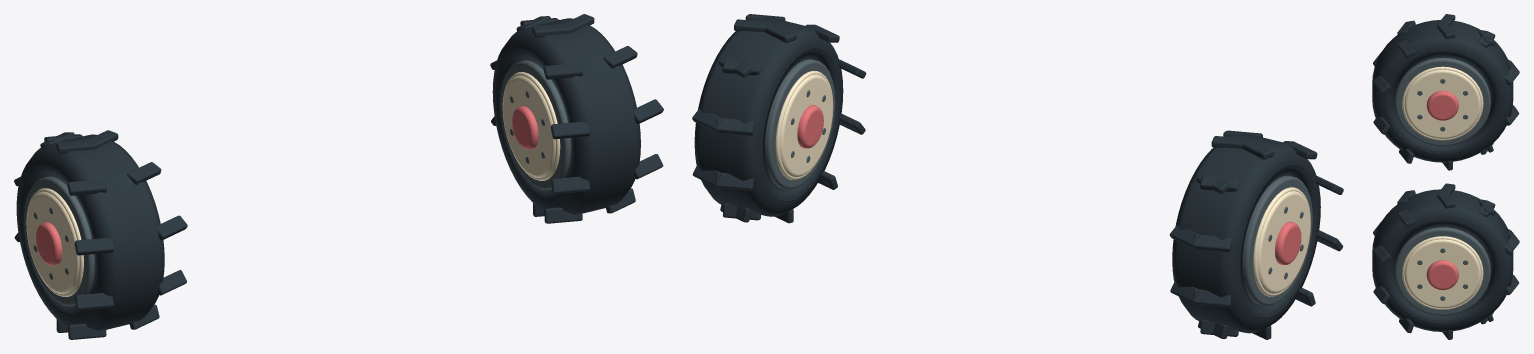
The model's file is broto_wheels_small.glb.
The picture shows the model from 3 angles, left to right: view 1: azimuth 30°, elevation 25°; view 2: azimuth 150°, elevation 25°; view 3: azimuth 270°, elevation 25°; orthographic projection. The views are drawn at different scales.
Visible parts, largest first — view 1: WheelL, WheelR; view 2: WheelL, WheelR; view 3: WheelL, WheelR.
Boxes of the visible parts, x1,y1,x2,y2 form: WheelL: (14, 130, 187, 339); WheelR: (490, 14, 663, 223); WheelL: (1169, 130, 1343, 339); WheelR: (692, 14, 866, 223); WheelL: (1372, 14, 1519, 170); WheelR: (1372, 183, 1519, 339).
Size of the model in its own units: 3.65 by 1.11 by 1.09.
